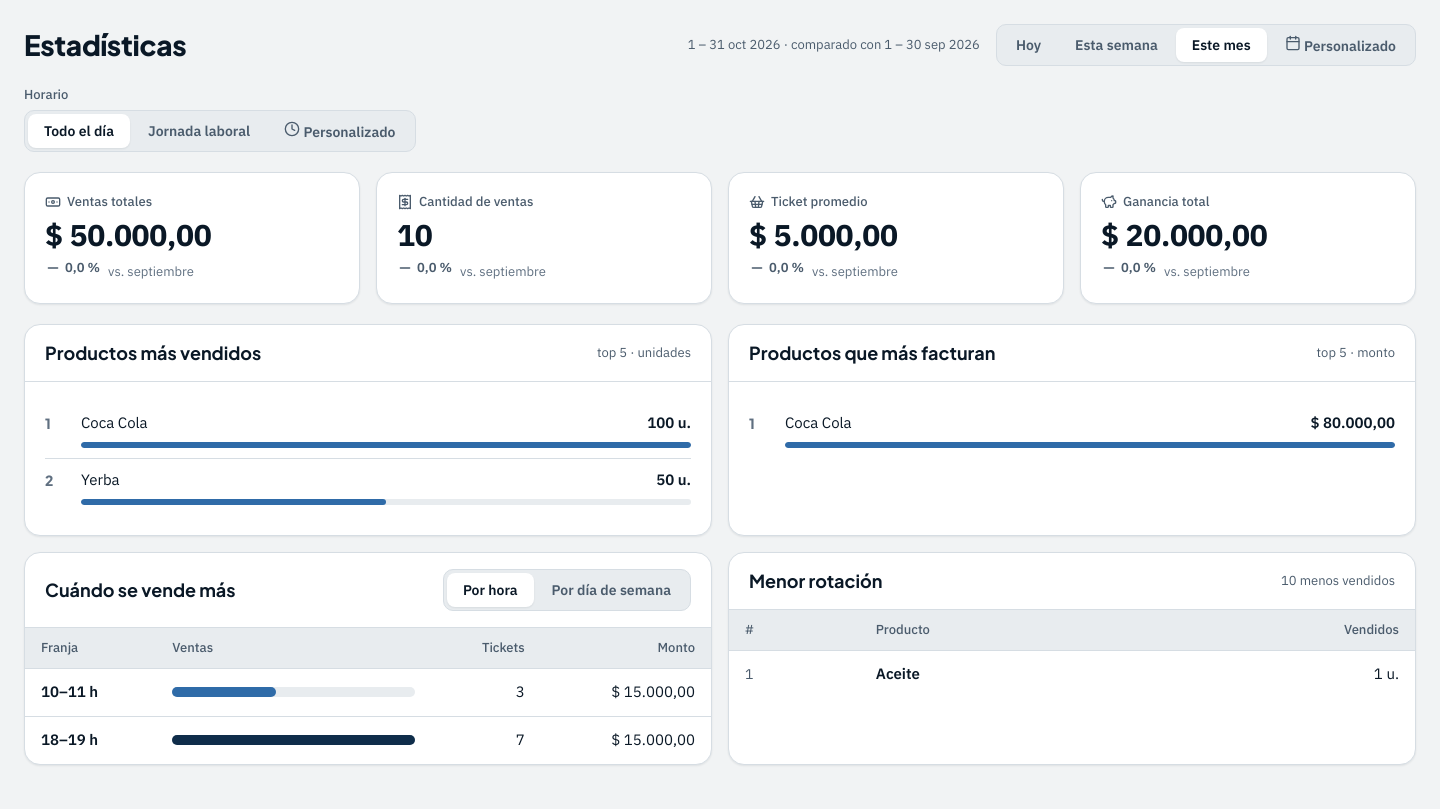
Stats — período personalizado › con ambas fechas válidas dispara la carga con ese rango
Click the tab "Personalizado" in the row of "1 – 30 sep 2026" at point(1340, 45), box 1269,28 -> 1412,62
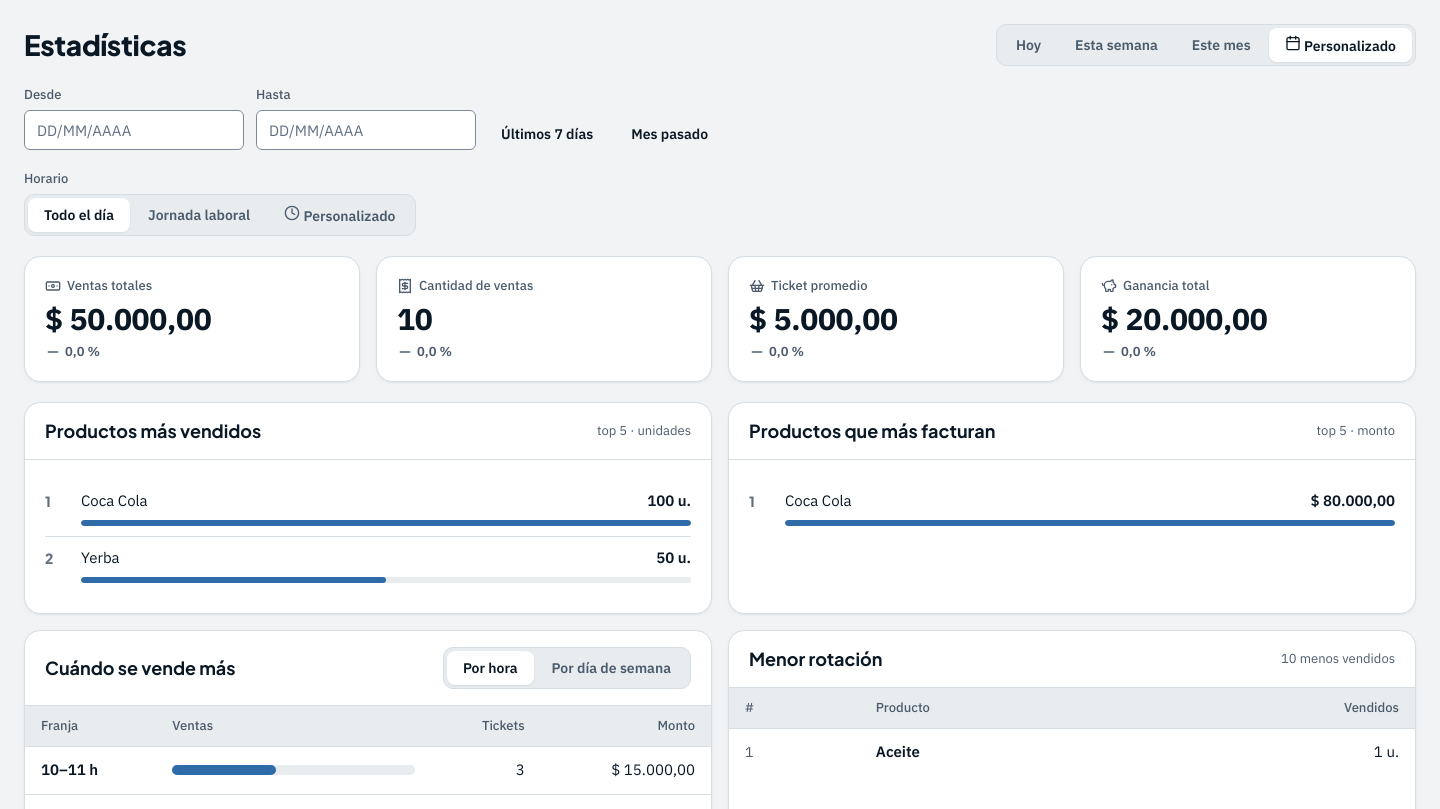
Type "01102026" into the field labelled "Desde" at point(134, 130), box 24,110 -> 244,150
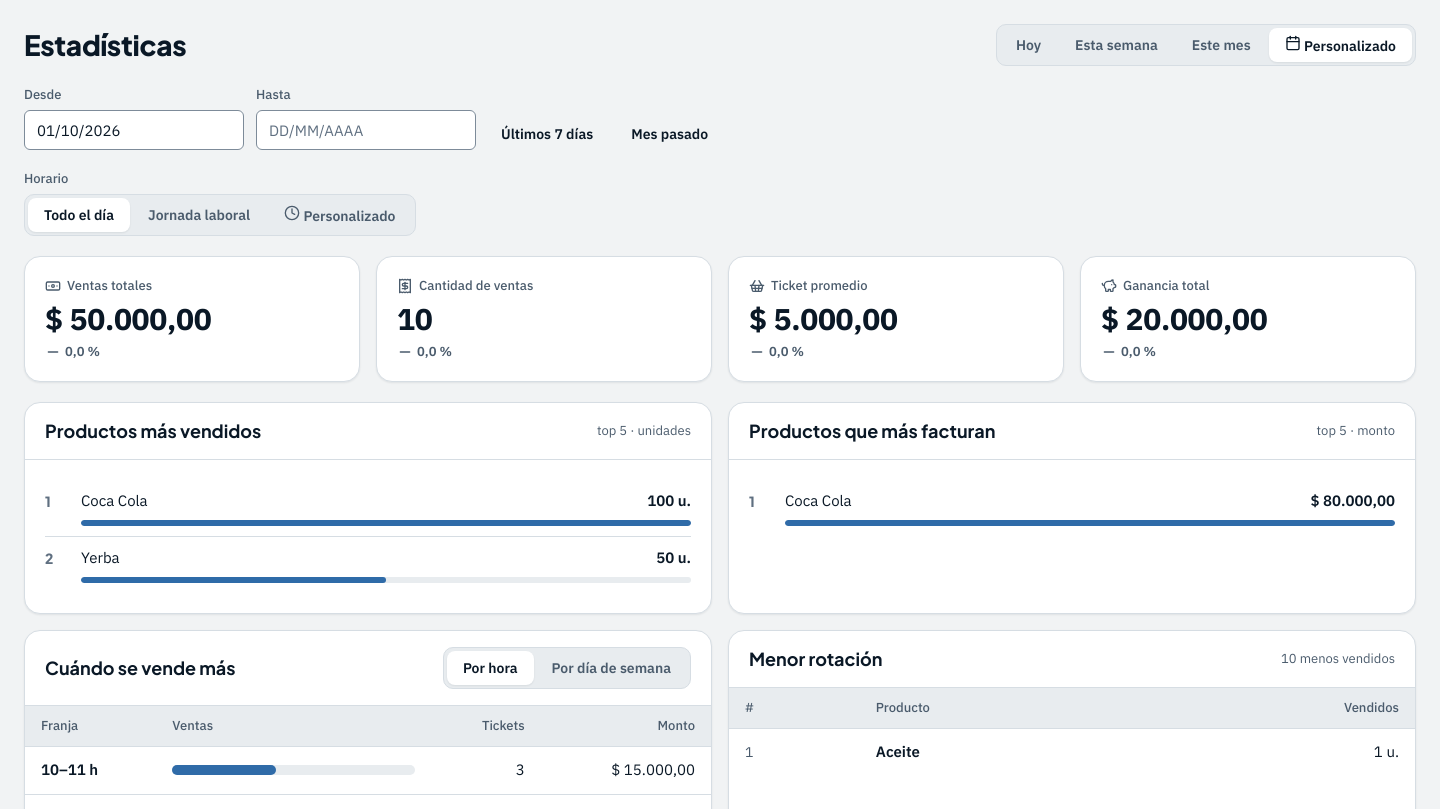
Type "15102026" into the field labelled "Hasta" at point(366, 130), box 256,110 -> 476,150
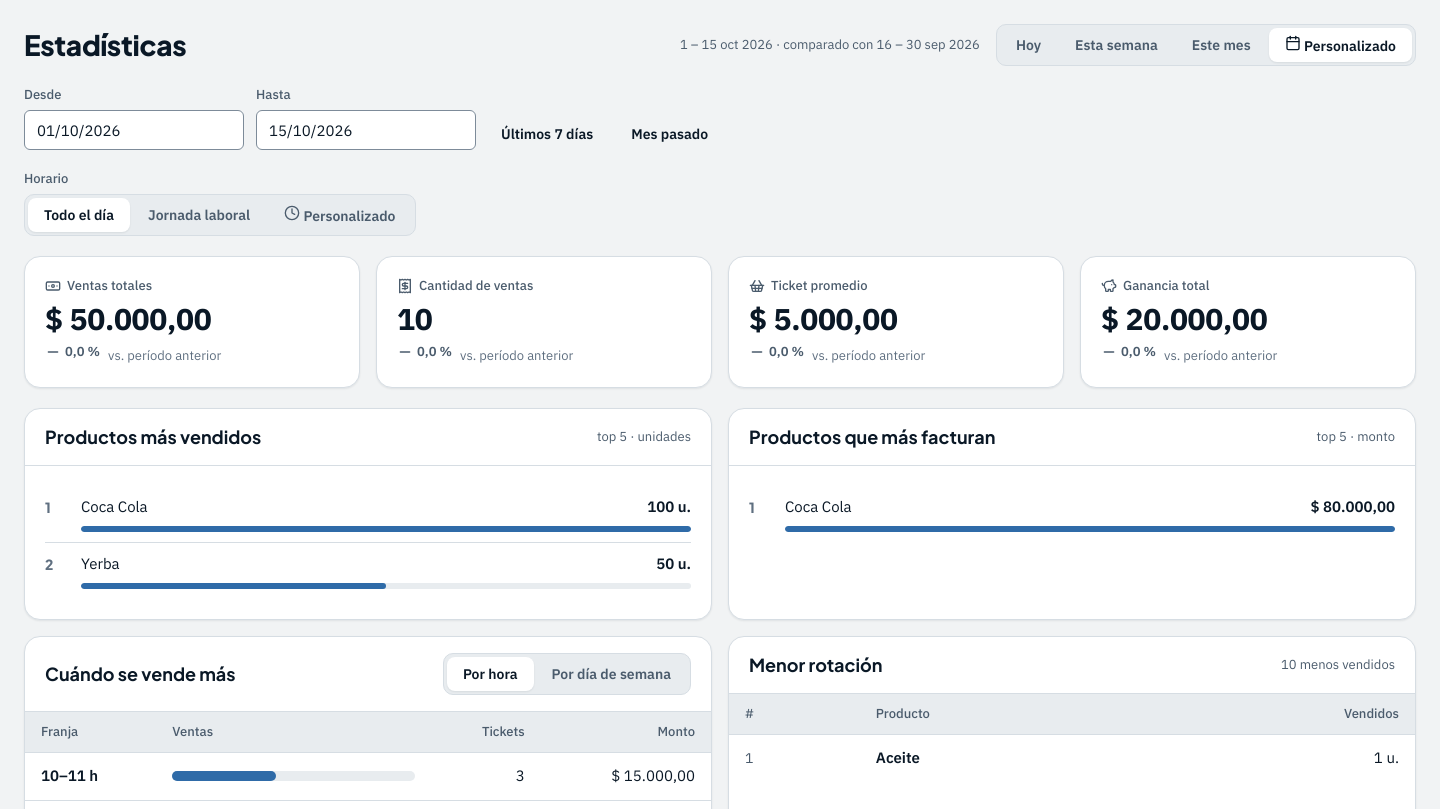
Expected: the text "1 – 15 oct 2026 · comparado con 16 – 30 sep 2026" is shown, 680,36 -> 980,54
